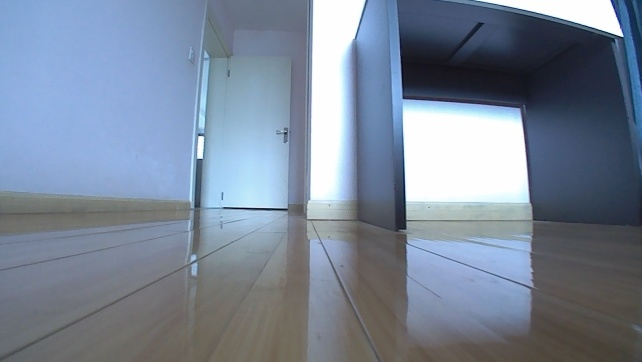door_anno: (198, 54, 296, 213)
